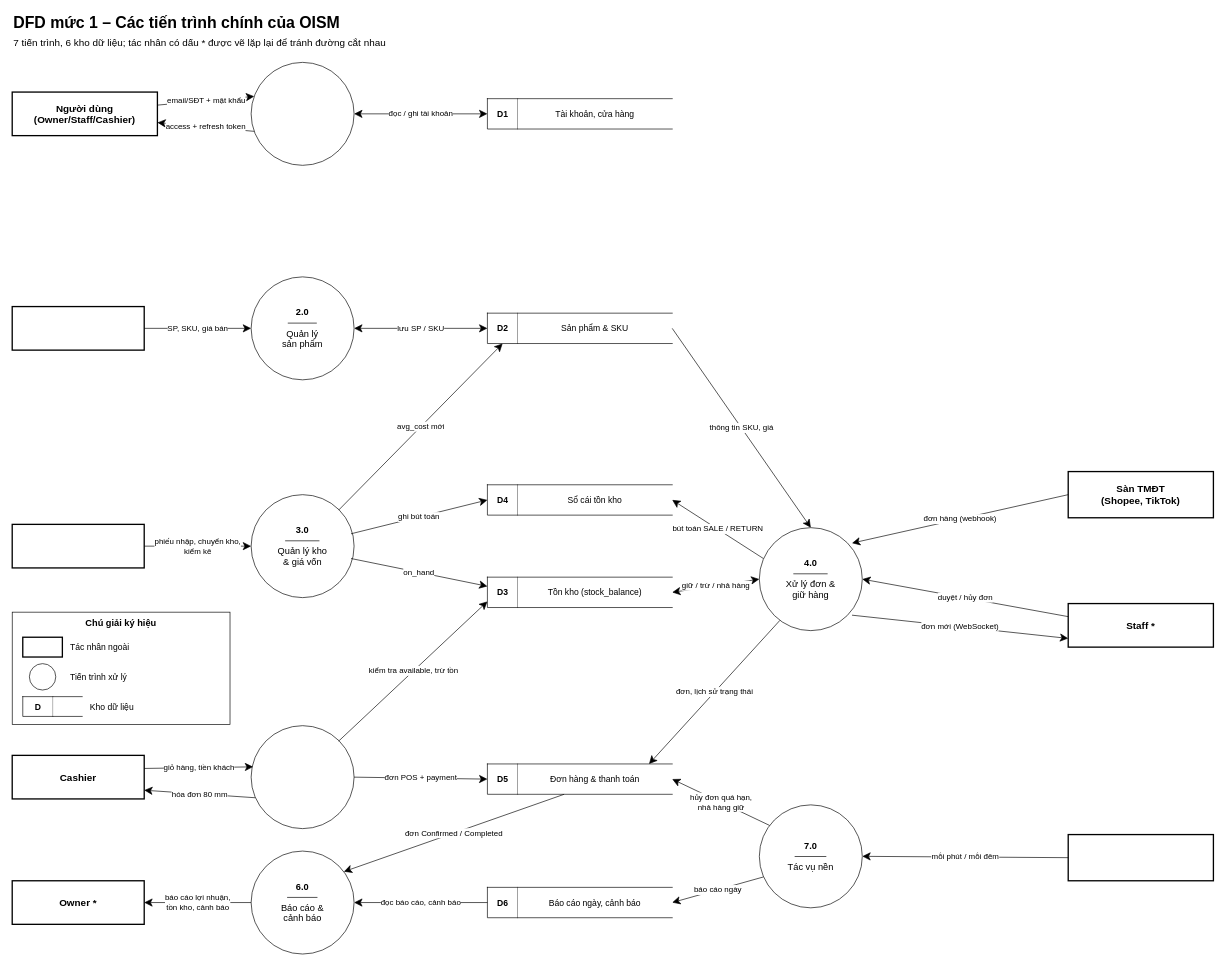
The diagram is 1225 pixels wide and 966 high, and some of its shapes have lost their labels. Here are the shapes that lost their labels. From the top down, the centre of each, then its label:
At point 302,113: "1.0 Xác thực & phân quyền".
At point 78,328: "Owner".
At point 78,545: "Staff".
At point 302,777: "5.0 Bán hàng tại quầy (POS)".
At point 1140,857: "Đồng hồ hệ thống (@Scheduled)".
